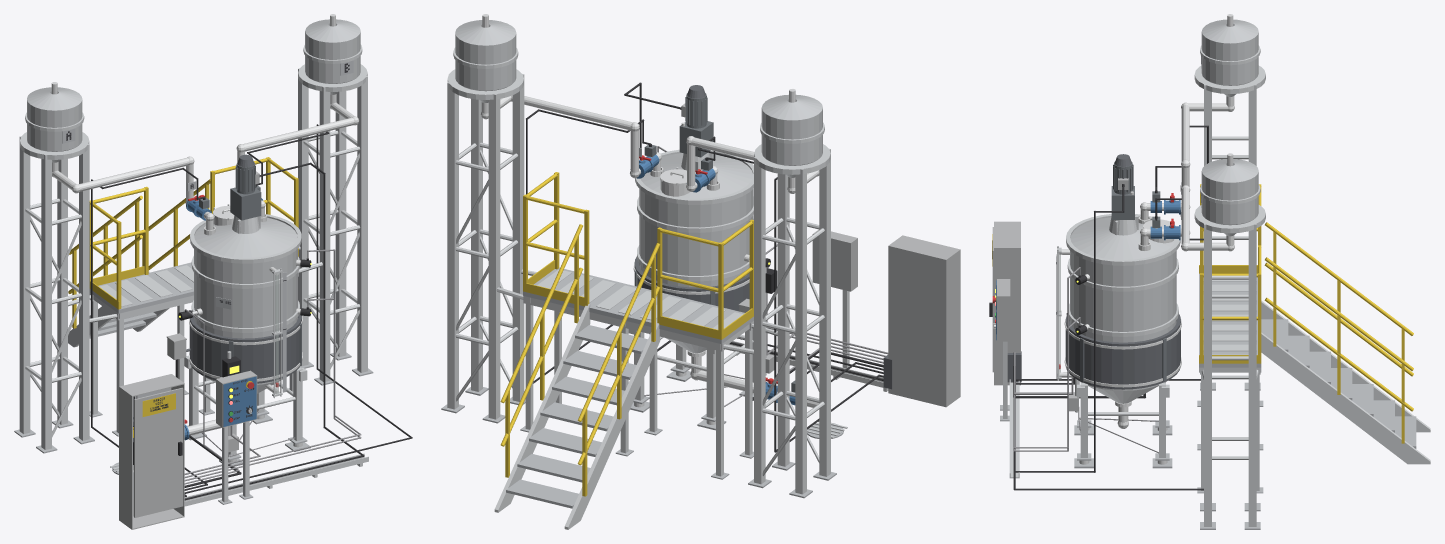
File: batch_mixing.glb
The picture shows the model from 3 angles, left to right: view 1: azimuth 30°, elevation 25°; view 2: azimuth 150°, elevation 25°; view 3: azimuth 270°, elevation 25°; orthographic projection. The views are drawn at different scales.
Parts seen in each view (by area): view 1: VESSEL_Shell, PLC_Door, HEATER_ELEMENT, TANK_A_Leg_3, TANK_A_Leg_0, TANK_B_Leg_0, TANK_B_Leg_1, TANK_A_Leg_1, VESSEL_Lid, TANK_B_Leg_2, TANK_B_Leg_3, TANK_A_Leg_2 (+35 smaller); view 2: PLC_Cab_Back, VESSEL_Shell, TANK_B_Leg_3, TANK_A_Leg_3, TANK_A_Leg_2, TANK_B_Leg_2, TANK_A_Leg_0, TANK_B_Leg_0, TANK_A_Leg_1, TANK_B_Leg_1, PLAT_Deck, TANK_A_Shell (+39 smaller); view 3: VESSEL_Shell, HEATER_ELEMENT, STAIR_Stringer_R, TANK_B_Leg_2, TANK_B_Leg_1, VESSEL_Lid, TANK_B_Shell, TANK_A_Shell, PLC_Cab_Right, PLAT_Deck, STAIR_Stringer_L, VESSEL_Lid_Flange (+27 smaller).
Part boxes in pixels (x1,y1,x2,y2): VESSEL_Shell: [194, 249, 297, 384]; PLC_Door: [134, 387, 183, 517]; HEATER_ELEMENT: [189, 310, 301, 383]; TANK_A_Leg_3: [19, 135, 30, 433]; TANK_A_Leg_0: [41, 151, 51, 449]; TANK_B_Leg_0: [319, 83, 330, 381]; TANK_B_Leg_1: [357, 74, 367, 372]; TANK_A_Leg_1: [79, 142, 89, 440]; VESSEL_Lid: [194, 217, 297, 257]; TANK_B_Leg_2: [335, 91, 346, 356]; TANK_B_Leg_3: [298, 67, 308, 365]; TANK_A_Leg_2: [57, 159, 67, 424]; PLC_Cab_Back: [888, 245, 946, 407]; VESSEL_Shell: [639, 189, 753, 287]; TANK_B_Leg_3: [488, 90, 500, 419]; TANK_A_Leg_3: [795, 165, 806, 494]; TANK_A_Leg_2: [754, 154, 765, 484]; TANK_B_Leg_2: [447, 80, 458, 409]; TANK_A_Leg_0: [819, 147, 830, 476]; TANK_B_Leg_0: [512, 72, 524, 401]; TANK_A_Leg_1: [777, 173, 789, 466]; TANK_B_Leg_1: [471, 98, 482, 391]; PLAT_Deck: [523, 267, 753, 344]; TANK_A_Shell: [761, 99, 822, 165]; VESSEL_Shell: [1070, 251, 1176, 390]; HEATER_ELEMENT: [1065, 314, 1180, 389]; STAIR_Stringer_R: [1261, 332, 1430, 464]; TANK_B_Leg_2: [1248, 221, 1256, 526]; TANK_B_Leg_1: [1204, 221, 1211, 526]; VESSEL_Lid: [1070, 217, 1175, 259]; TANK_B_Shell: [1201, 163, 1258, 224]; TANK_A_Shell: [1201, 24, 1258, 85]; PLC_Cab_Right: [994, 247, 1020, 385]; PLAT_Deck: [1199, 273, 1261, 367]; STAIR_Stringer_L: [1261, 300, 1430, 432]; VESSEL_Lid_Flange: [1066, 214, 1180, 265].
Size of the model in its own units: 4.6 by 4.49 by 4.96.
